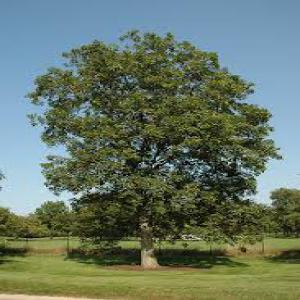Tree: (24, 25, 278, 271)
